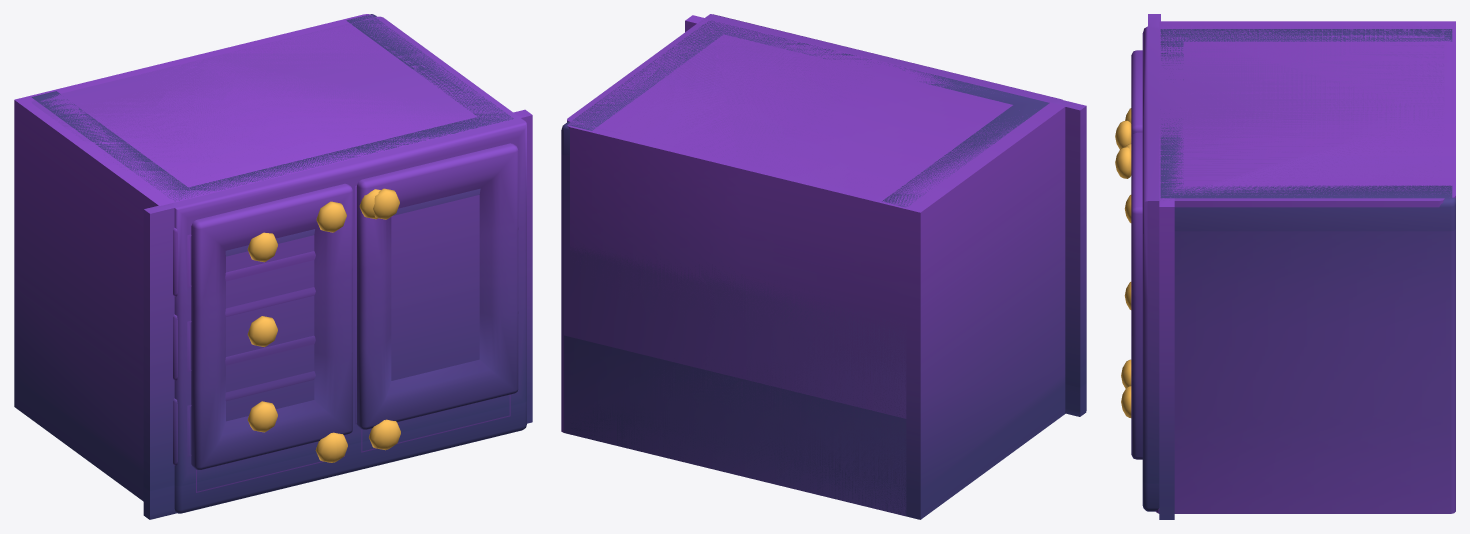
Rendered from PurpleCabinets.fbx.
3 renders of one model, left to right at view 1: azimuth 30°, elevation 25°; view 2: azimuth 150°, elevation 25°; view 3: azimuth 270°, elevation 25°, orthographic.
Parts seen in each view (by area): view 1: Cabinet03, Cabinet02, UpCabinet; view 2: Cabinet02, UpCabinet, Cabinet03; view 3: UpCabinet, Cabinet02, Cabinet03.
Boxes of the visible parts, x1=… form: Cabinet03: x1=31, y1=16, x2=526, y2=519; Cabinet02: x1=14, y1=14, x2=532, y2=501; UpCabinet: x1=31, y1=14, x2=513, y2=492; Cabinet02: x1=567, y1=15, x2=1065, y2=519; UpCabinet: x1=561, y1=20, x2=1049, y2=516; Cabinet03: x1=567, y1=14, x2=1086, y2=416; UpCabinet: x1=1121, y1=29, x2=1455, y2=513; Cabinet02: x1=1124, y1=21, x2=1455, y2=519; Cabinet03: x1=1115, y1=14, x2=1444, y2=511.
Size of the model in its own units: 134 by 101 by 99.75.
